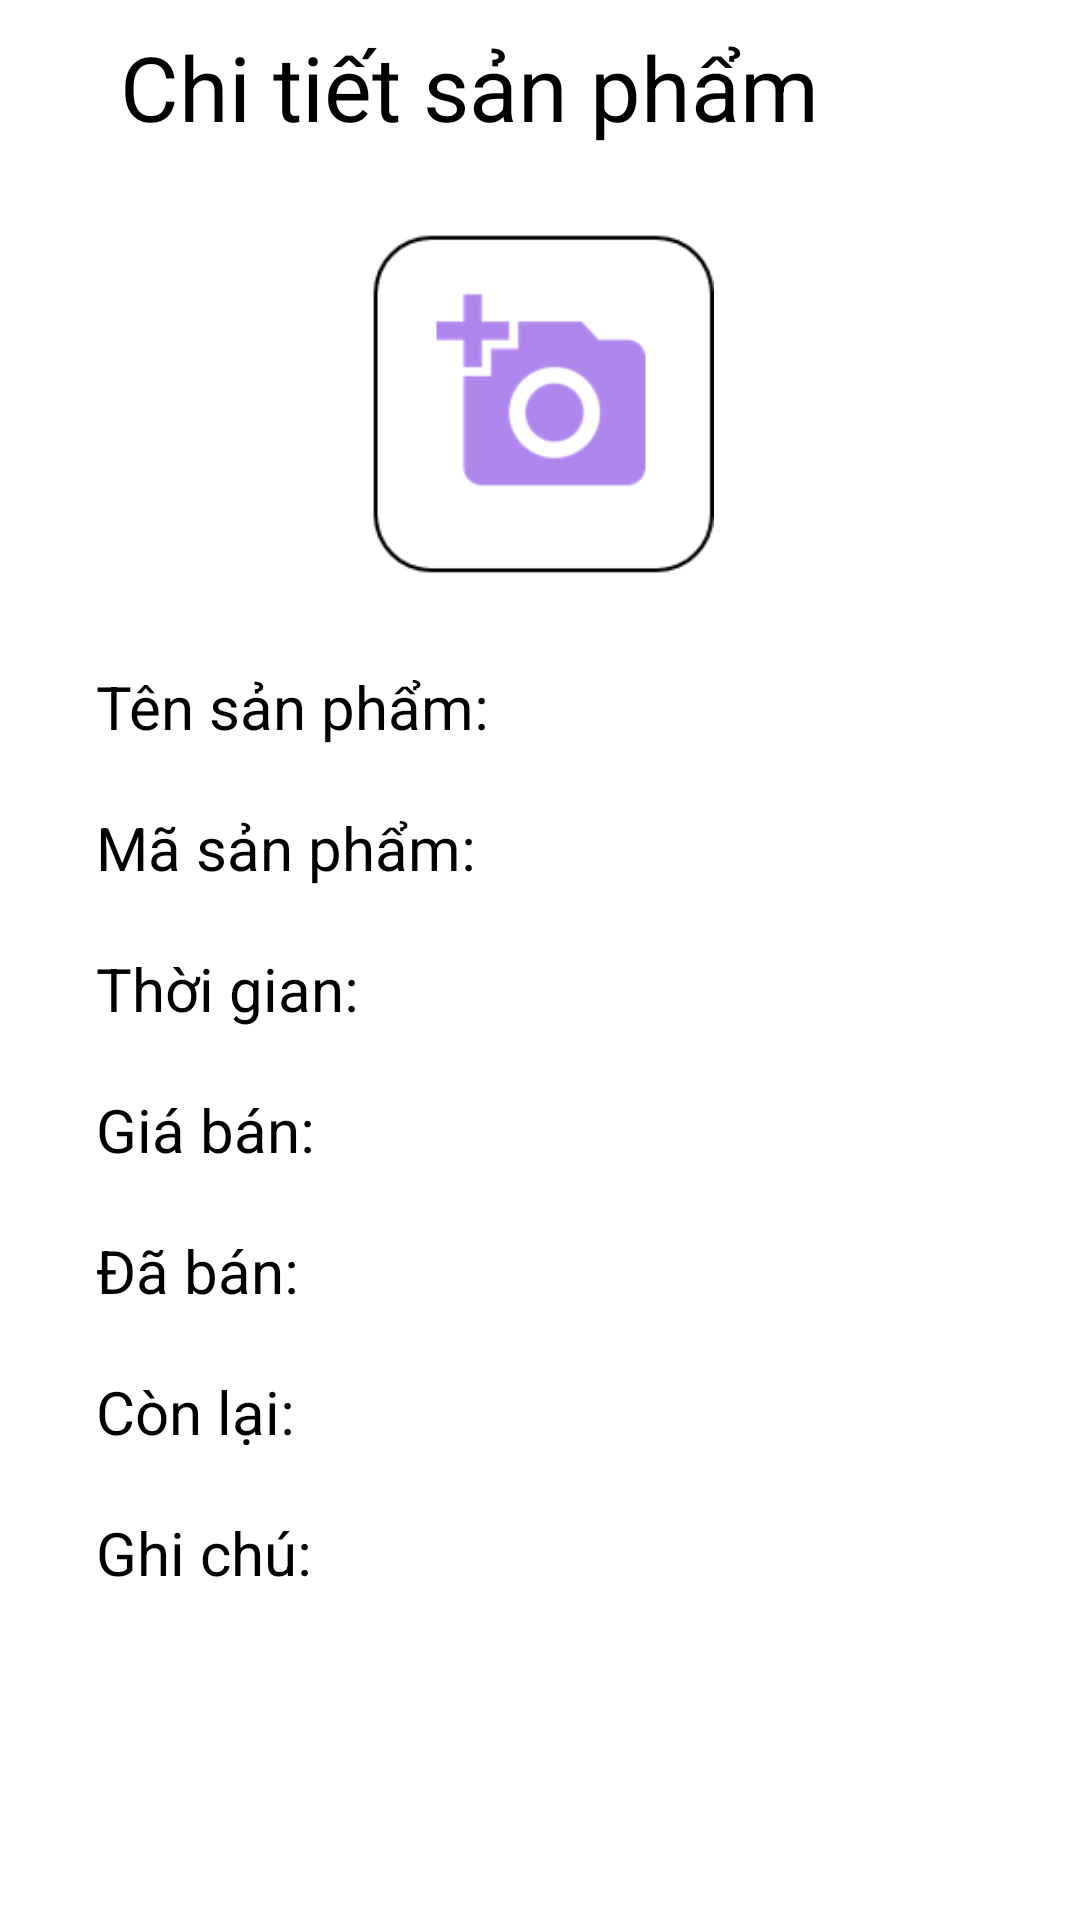

Where icons sit on this 1080w x 1920h app screen, as (x1, y1, x2, y2):
imgphoto: (373, 235, 714, 573)
